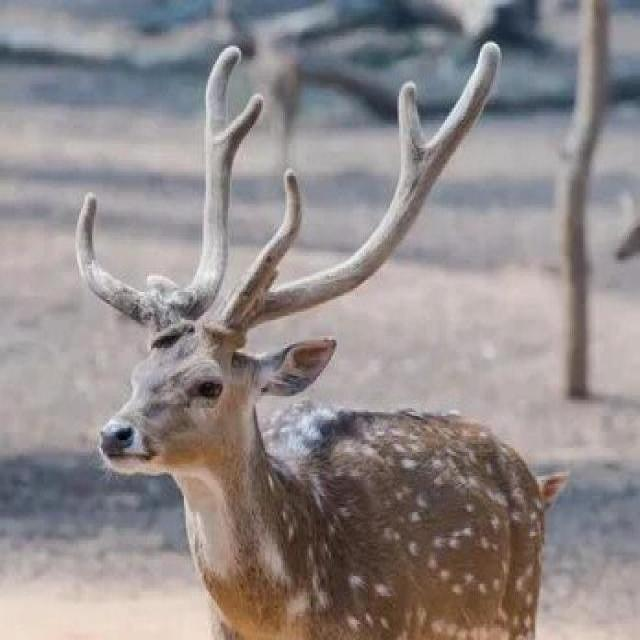deer: (52, 85, 606, 626)
